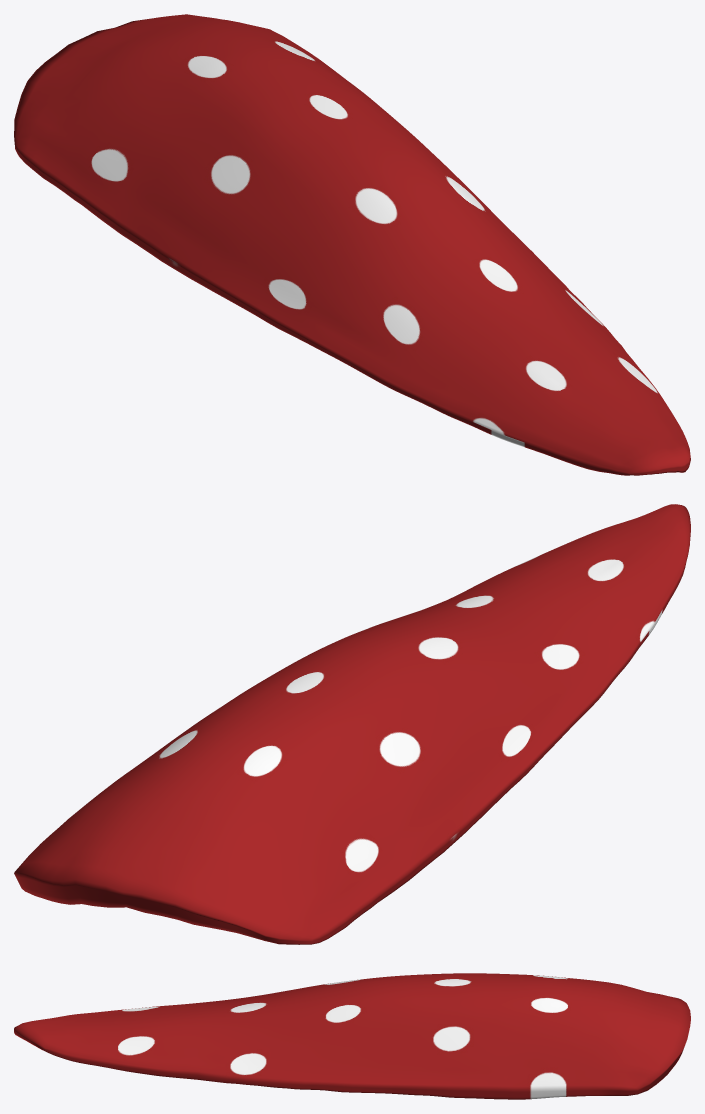
File: Stiletto.fbx
3 renders of one model, top to bottom at view 1: azimuth 30°, elevation 25°; view 2: azimuth 150°, elevation 25°; view 3: azimuth 270°, elevation 25°, orthographic. The views are drawn at different scales.
Parts seen in each view (by area): view 1: Stiletto acrylic nail; view 2: Stiletto acrylic nail; view 3: Stiletto acrylic nail.
Boxes of the visible parts, bbox=[...] form: Stiletto acrylic nail: bbox=[14, 14, 690, 475]; Stiletto acrylic nail: bbox=[14, 504, 690, 944]; Stiletto acrylic nail: bbox=[14, 973, 690, 1099].
Size of the model in its own units: 74.12 by 31.27 by 239.
1 material, 1 textured.
